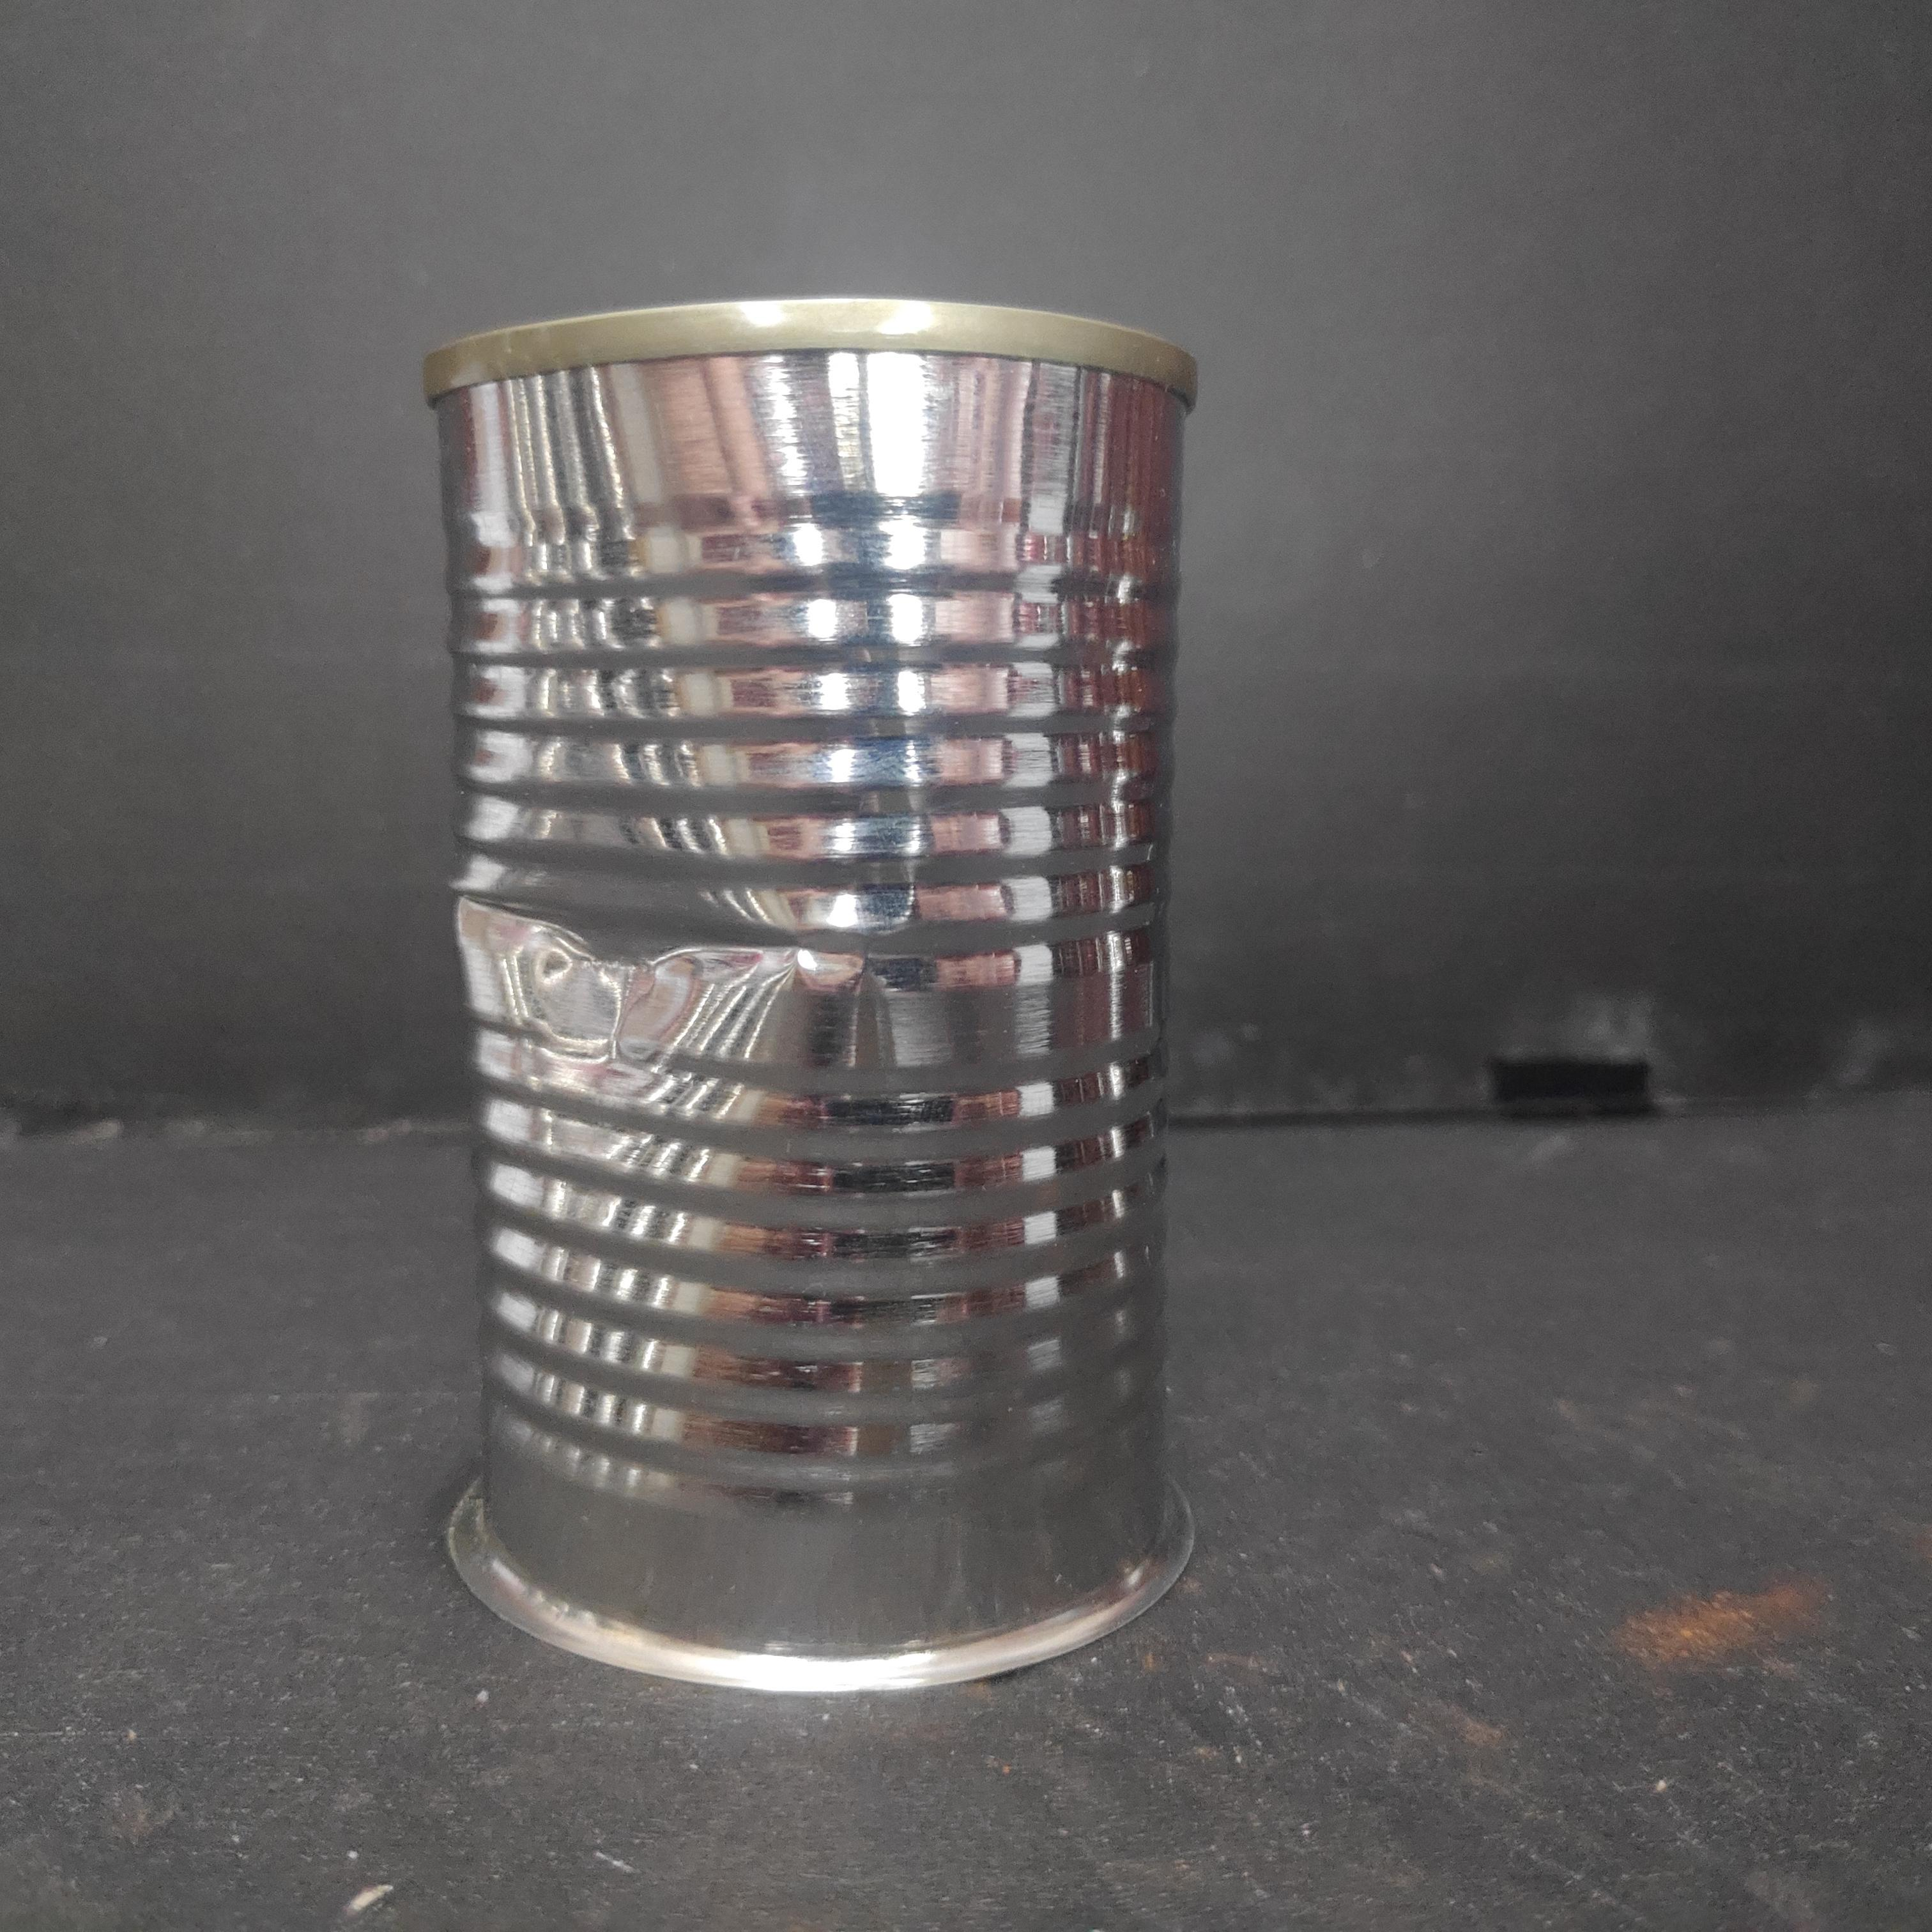Minor Defect: (403, 285, 1205, 1714)
